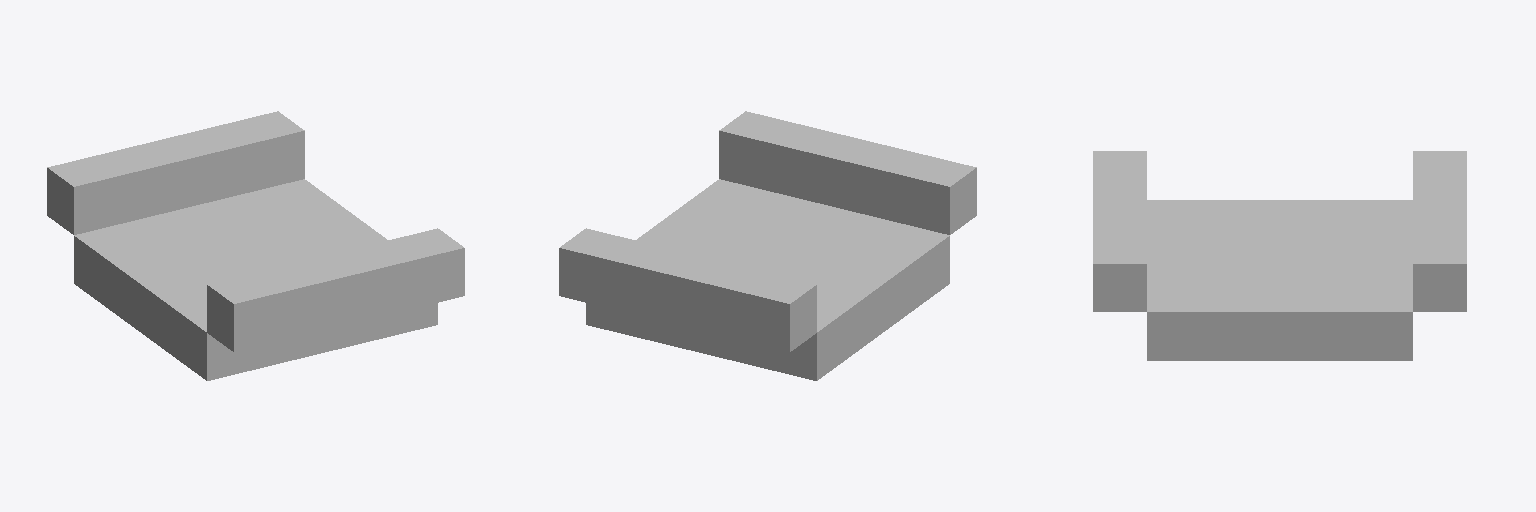
File: Road2.obj
3 views of the same model, side by side, from view 1: azimuth 30°, elevation 25°; view 2: azimuth 150°, elevation 25°; view 3: azimuth 270°, elevation 25° (orthographic).
Visible parts, largest first — view 1: ROAD1, BARRIER-2D, BARRIER-1DD; view 2: ROAD1, BARRIER-1DD, BARRIER-2D; view 3: ROAD1, BARRIER-1DD, BARRIER-2D.
Part boxes in pixels (left/top/right/bottom): ROAD1: left=74, top=179, right=437, bottom=380; BARRIER-2D: left=47, top=111, right=304, bottom=234; BARRIER-1DD: left=207, top=228, right=464, bottom=351; ROAD1: left=586, top=179, right=949, bottom=380; BARRIER-1DD: left=719, top=111, right=976, bottom=234; BARRIER-2D: left=559, top=228, right=816, bottom=351; ROAD1: left=1147, top=200, right=1412, bottom=360; BARRIER-1DD: left=1093, top=151, right=1146, bottom=311; BARRIER-2D: left=1413, top=151, right=1466, bottom=311.
Bounding box in the file's own units: 5 × 2 × 7.